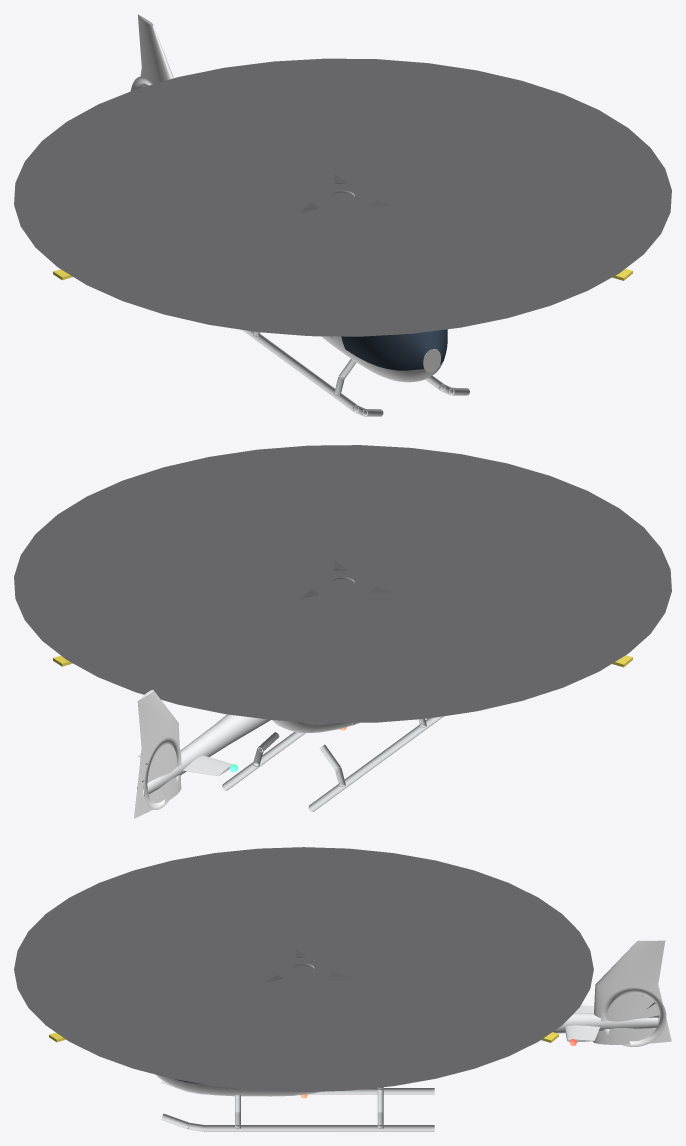
3 views of the same model, one above another, from view 1: azimuth 30°, elevation 25°; view 2: azimuth 150°, elevation 25°; view 3: azimuth 270°, elevation 25° (orthographic). The views are drawn at different scales.
Visible parts, largest first — view 1: airframe, rotor; view 2: airframe, rotor; view 3: airframe, rotor.
Boxes of the visible parts, x1,y1,x2,y2 form: airframe: [14, 14, 671, 416]; rotor: [53, 174, 632, 280]; airframe: [14, 445, 671, 818]; rotor: [53, 560, 632, 667]; airframe: [14, 847, 671, 1131]; rotor: [49, 949, 558, 1042].
Size of the model in its own units: 10.2 by 3.35 by 11.57.
